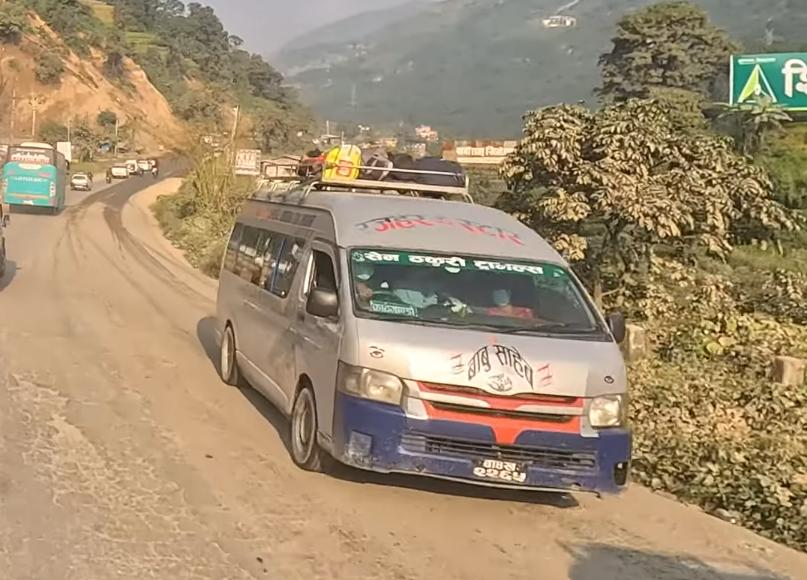bus: (0, 140, 72, 217)
micro_bus: (201, 171, 634, 503)
